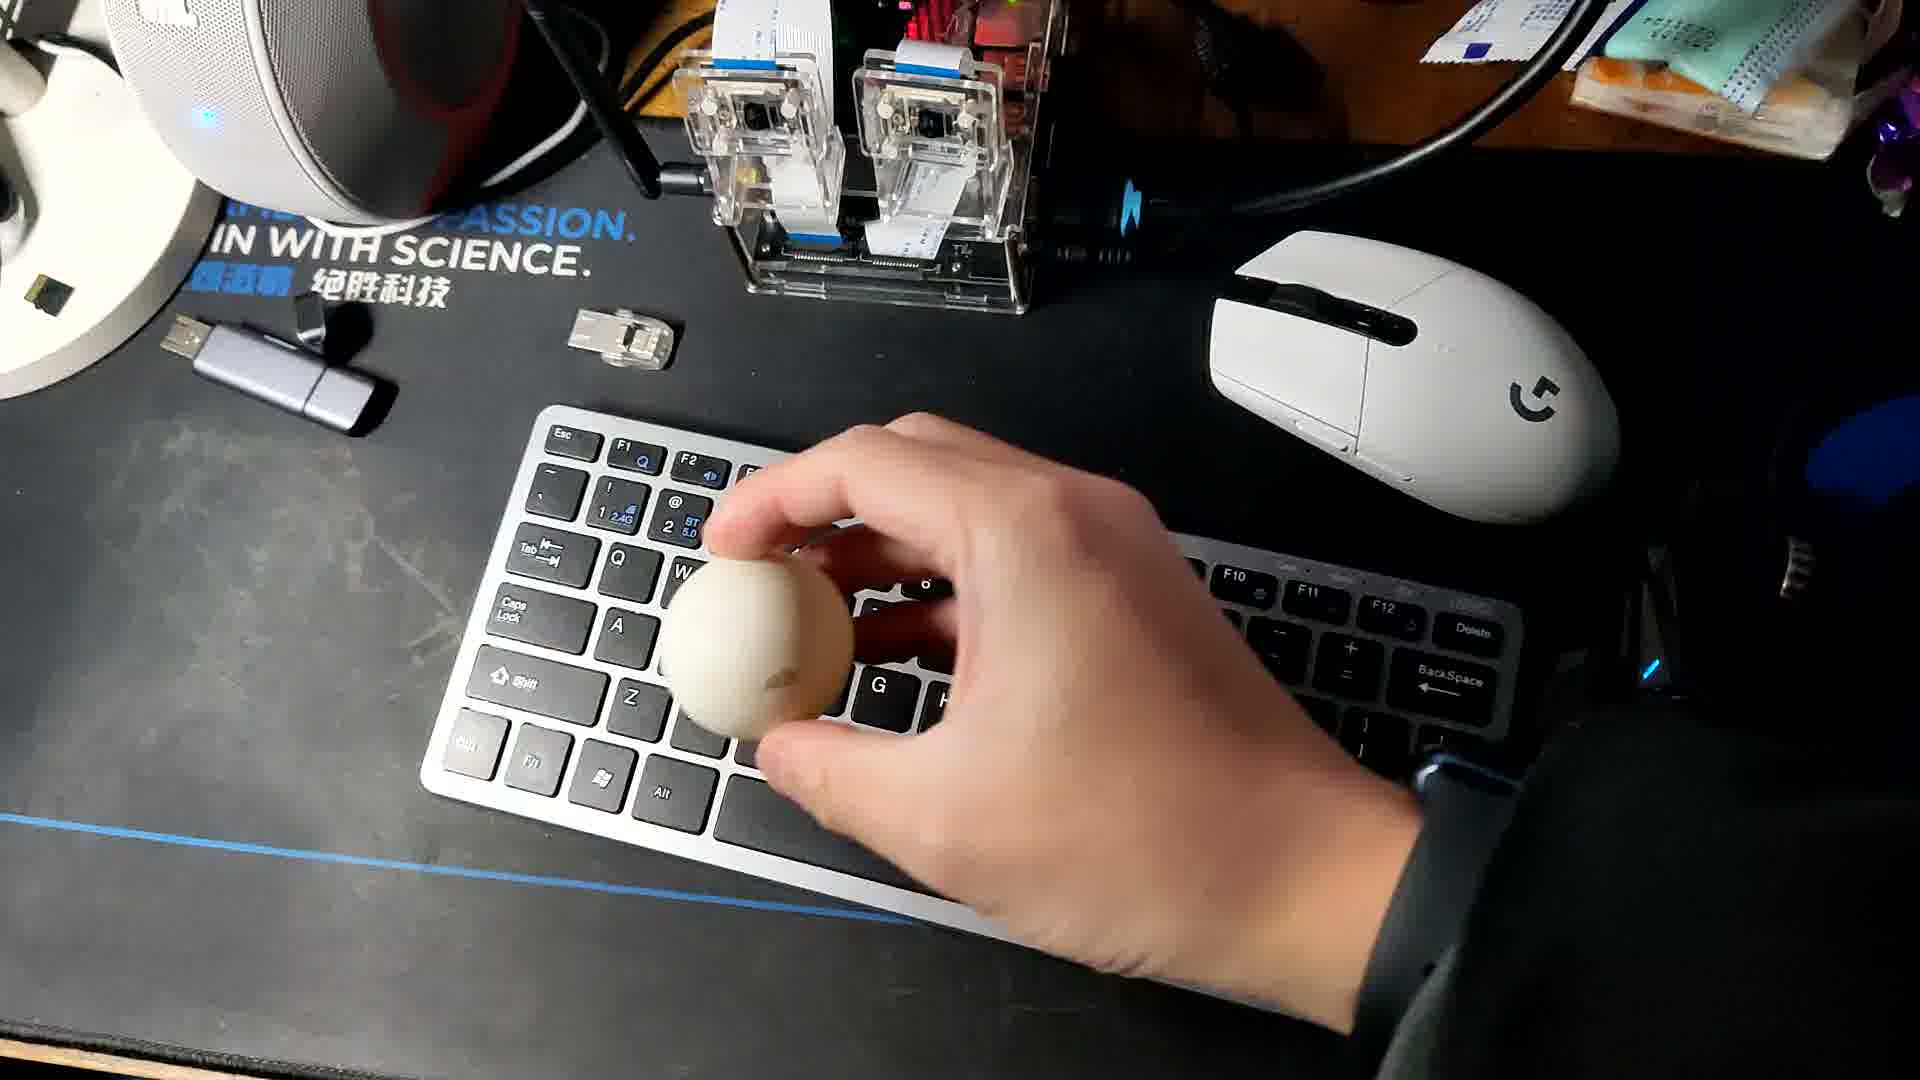Ball: (655, 556, 858, 741)
